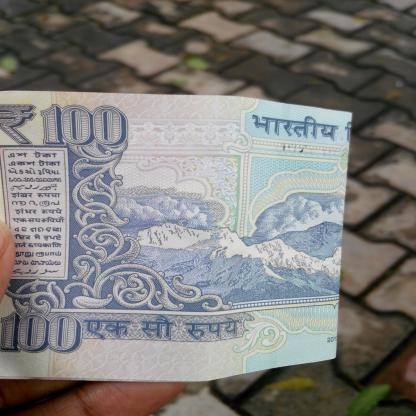Old100Back: (0, 91, 356, 386)
